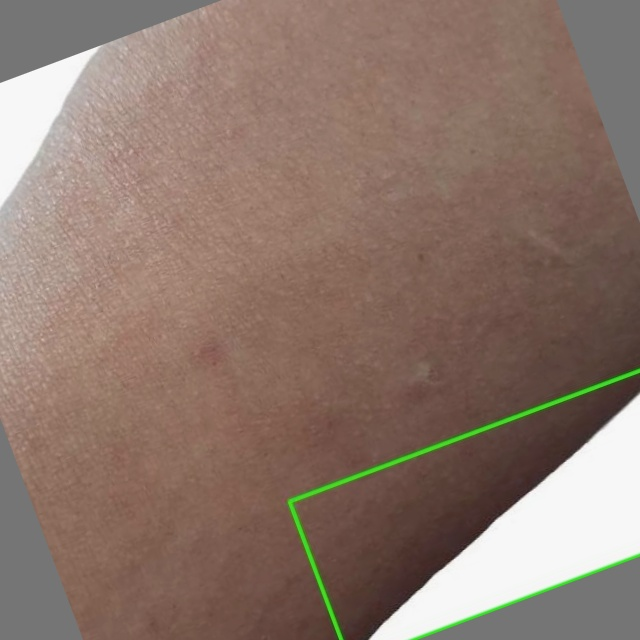Tinea Corporis: (289, 370, 639, 639)
